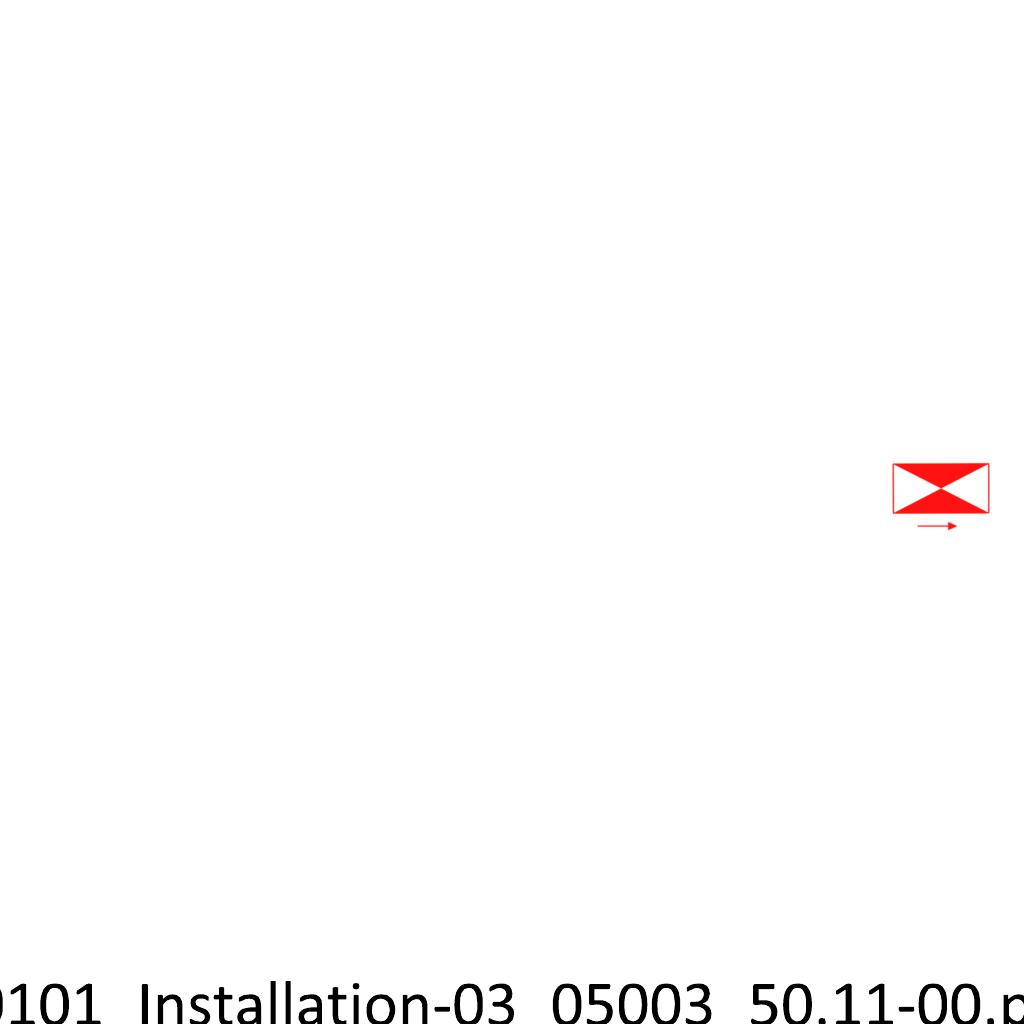Fluchtwegpiktogramm: (889, 460, 993, 533)
